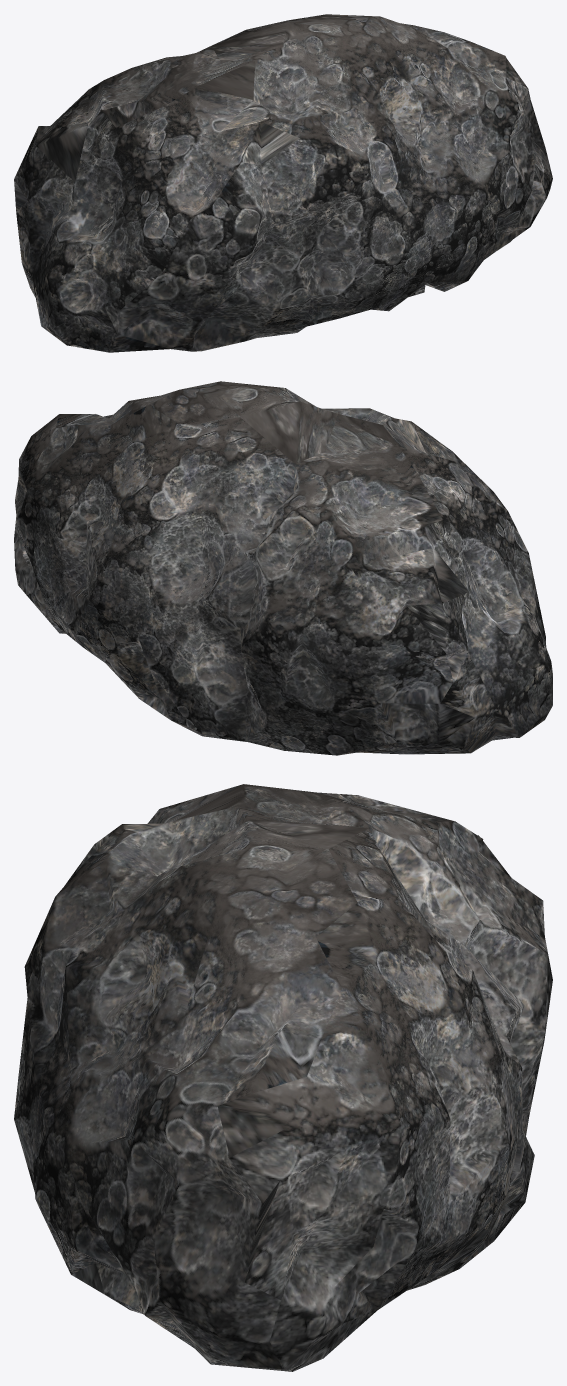
The model's file is Asteroid_03.fbx.
3 views of the same model, one above another, from view 1: azimuth 30°, elevation 25°; view 2: azimuth 150°, elevation 25°; view 3: azimuth 270°, elevation 25° (orthographic). The views are drawn at different scales.
Parts seen in each view (by area): view 1: Asteroid_03; view 2: Asteroid_03; view 3: Asteroid_03.
Boxes of the visible parts, x1,y1,x2,y2 form: Asteroid_03: [14, 14, 552, 352]; Asteroid_03: [14, 381, 552, 755]; Asteroid_03: [14, 784, 552, 1371].
Bounding box in the file's own units: 1.66 × 0.8522 × 1.
1 material, 1 textured.
